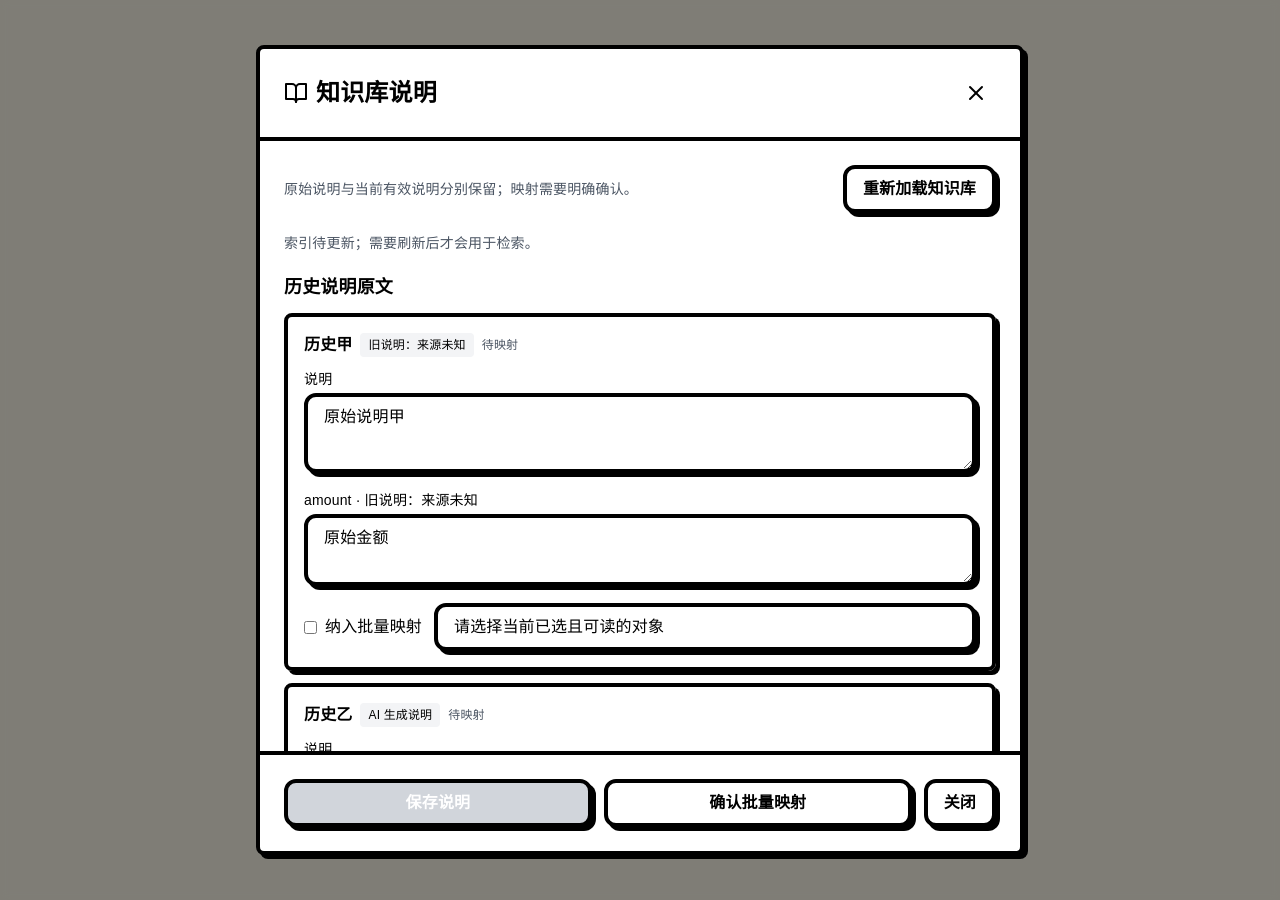
Test case: 409 blocks retry, reload preserves local draft until explicitly adopting the server version
Replace the text in the text box named "历史说明 1" with "未保存草稿" at {"x": 640, "y": 433}, box [304, 393, 976, 473]
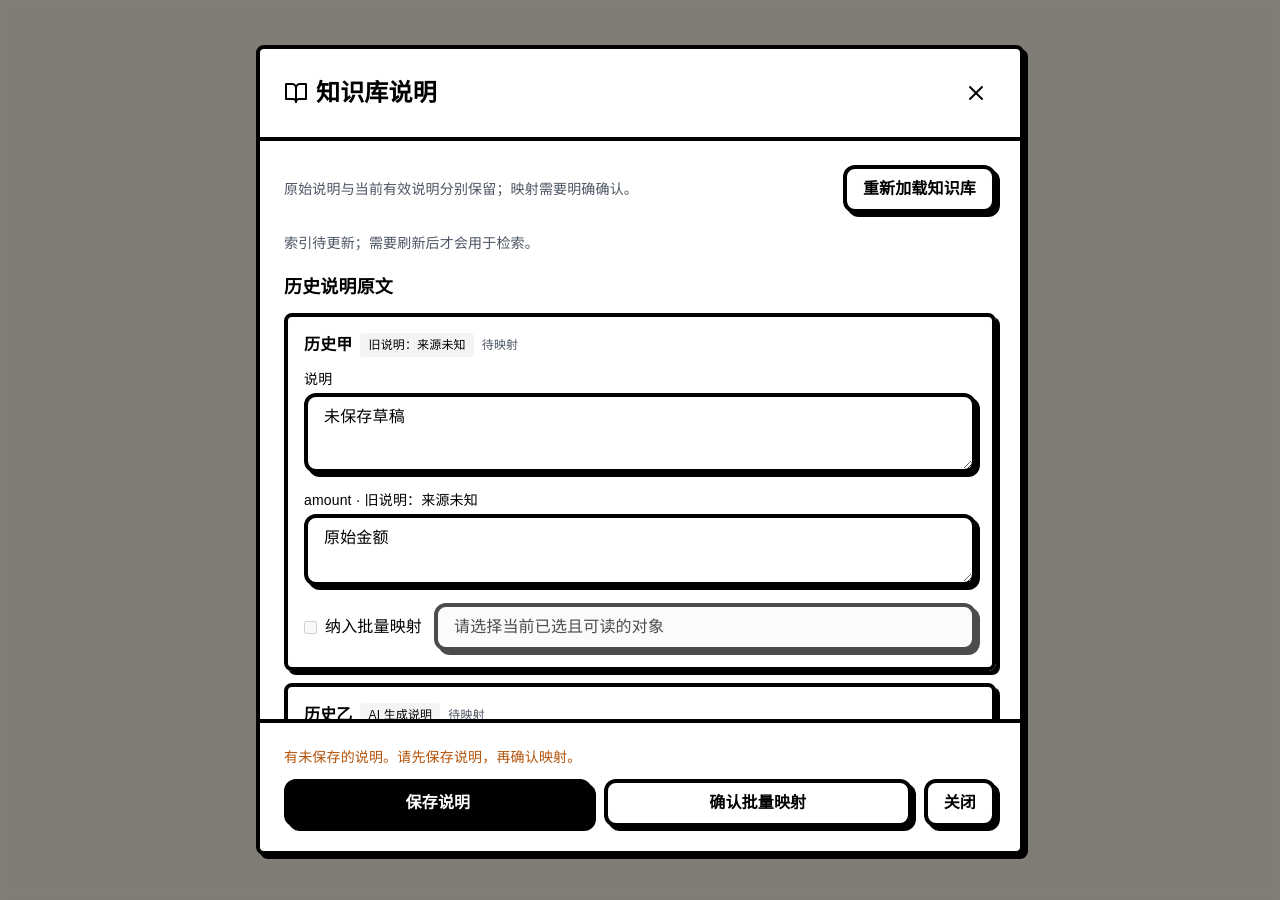
Click the button "保存说明".
click(438, 803)  # box [284, 779, 592, 827]
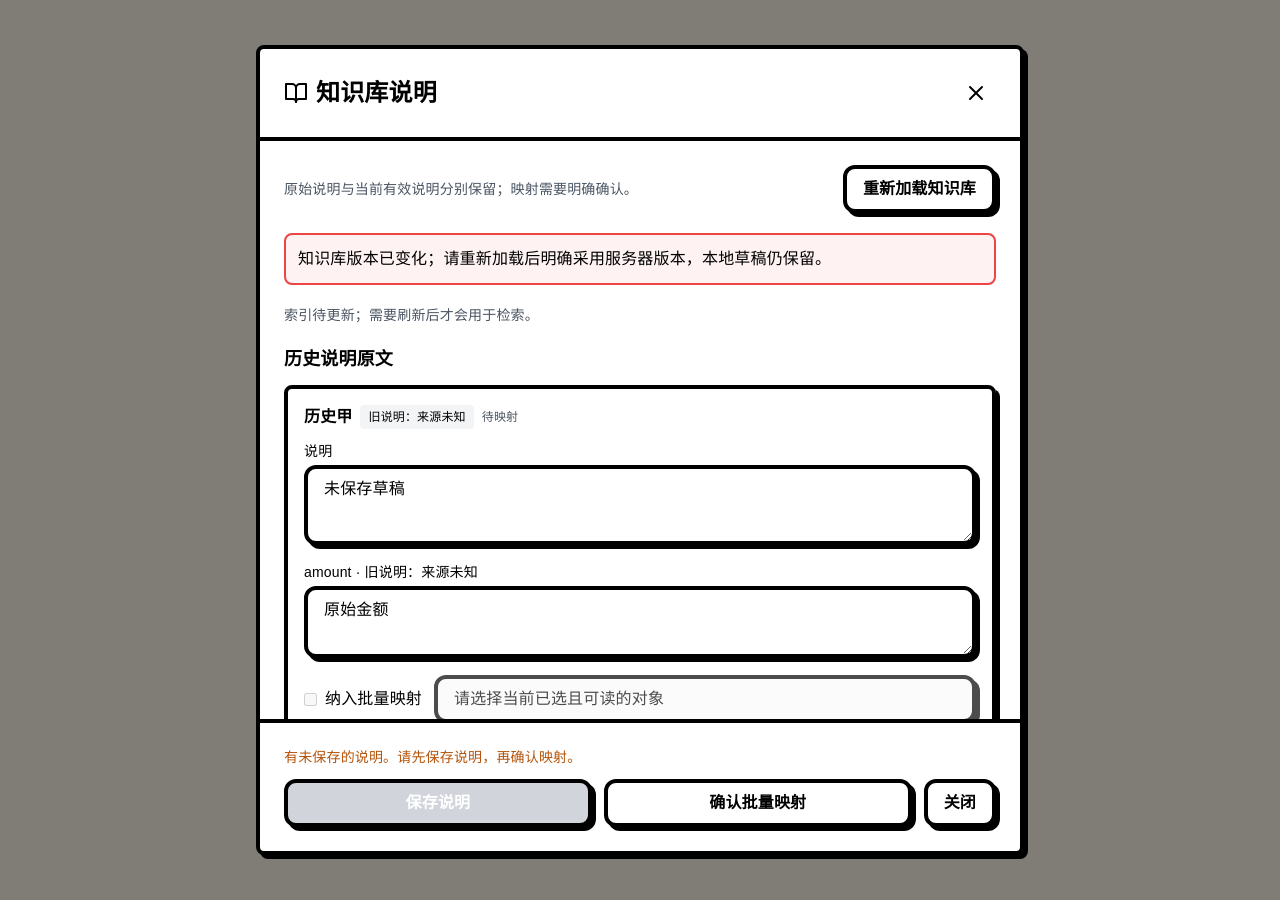
Expected: the text "说明已保存" is not shown
Expected: the text "知识库版本已变化；请重新加载后明确采用服务器版本，本地草稿仍保留。" is shown, [284, 233, 996, 285]
Expected: the button "保存说明" is disabled, [284, 779, 592, 827]
Click the button "重新加载知识库".
click(919, 189)  # box [843, 165, 996, 213]
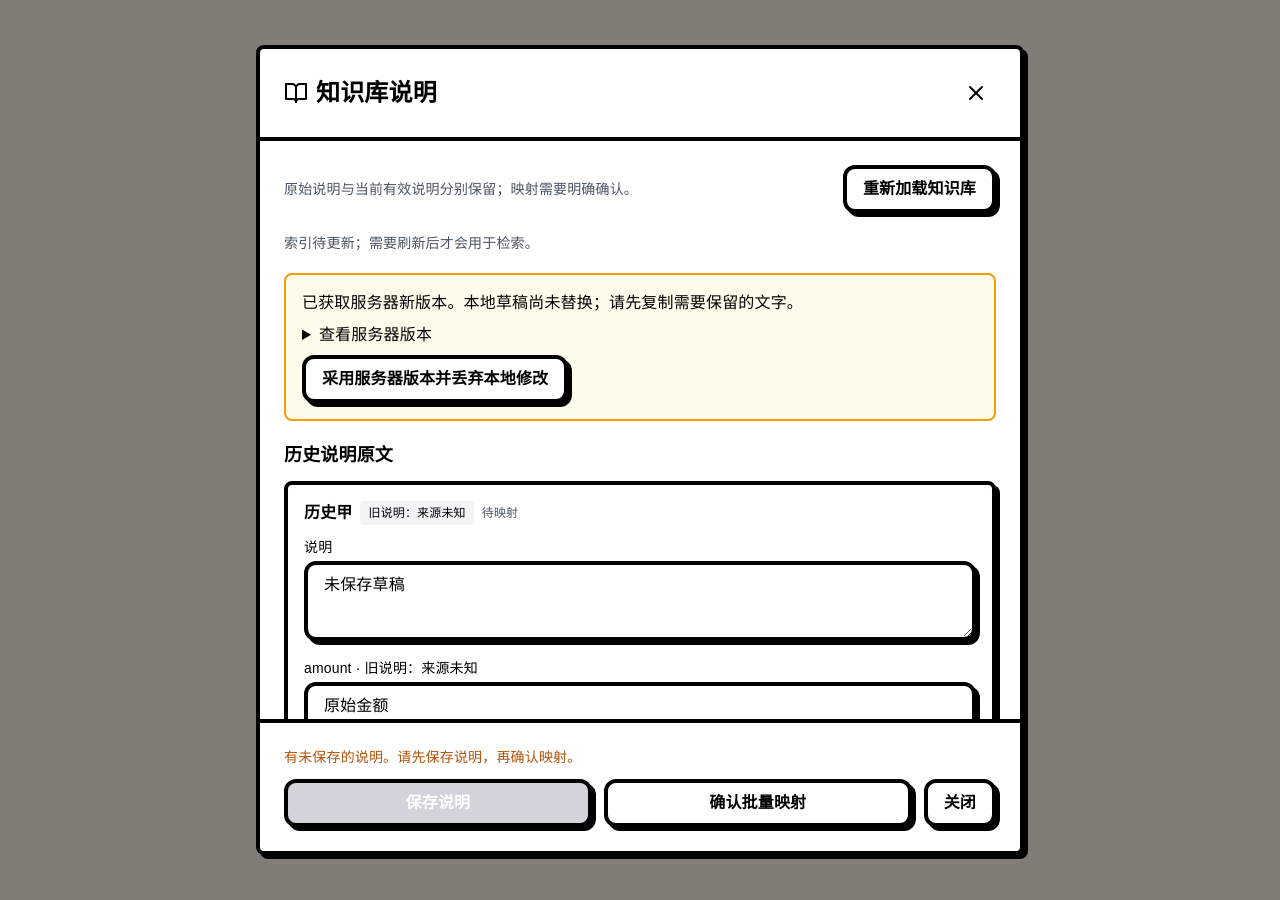
Expected: the button "采用服务器版本并丢弃本地修改" is shown
Click the button "采用服务器版本并丢弃本地修改".
click(435, 379)  # box [302, 355, 568, 403]
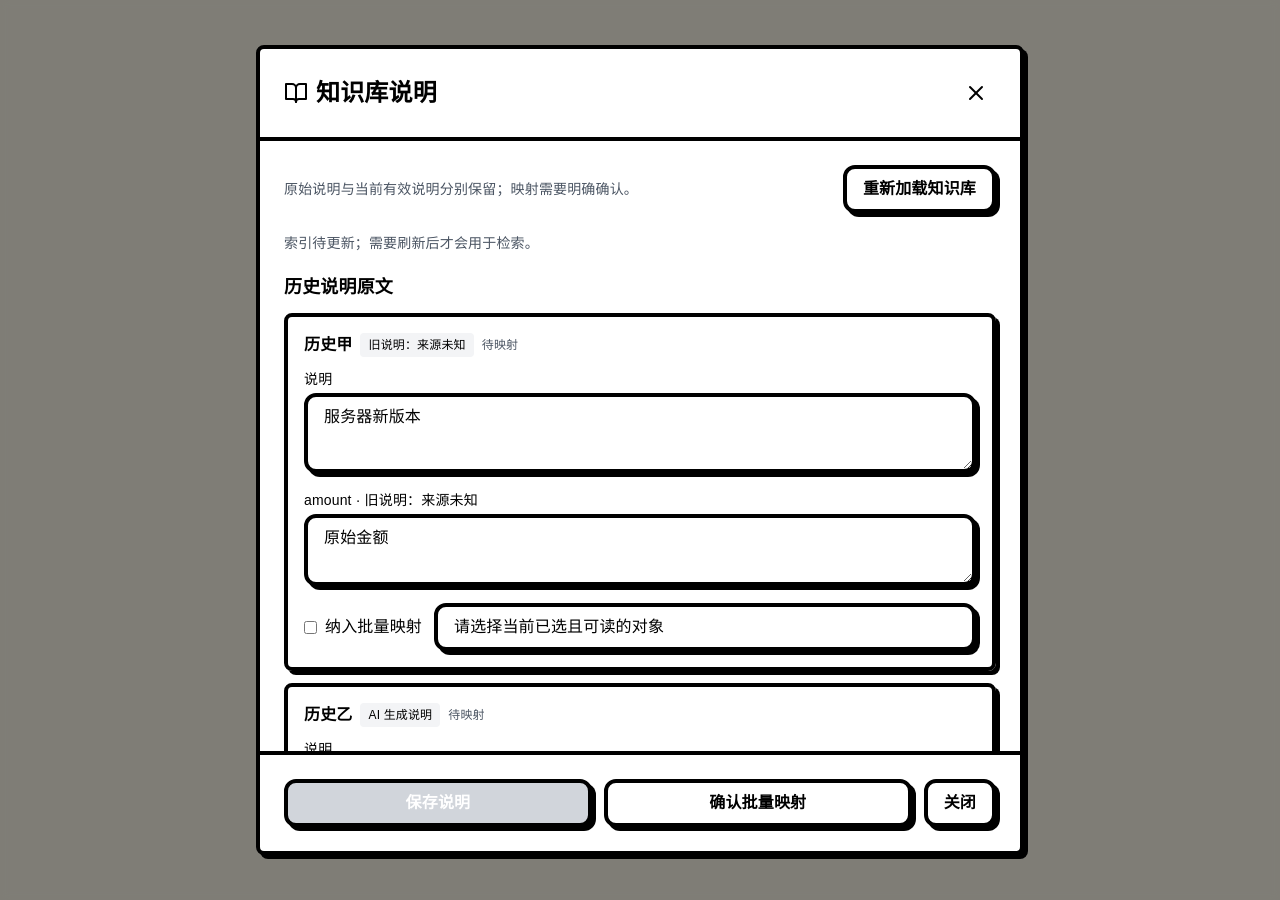
Expected: the text box named "历史说明 1" holds "服务器新版本"
Replace the text in the text box named "历史说明 1" with "明确重新编辑" at {"x": 640, "y": 433}, box [304, 393, 976, 473]
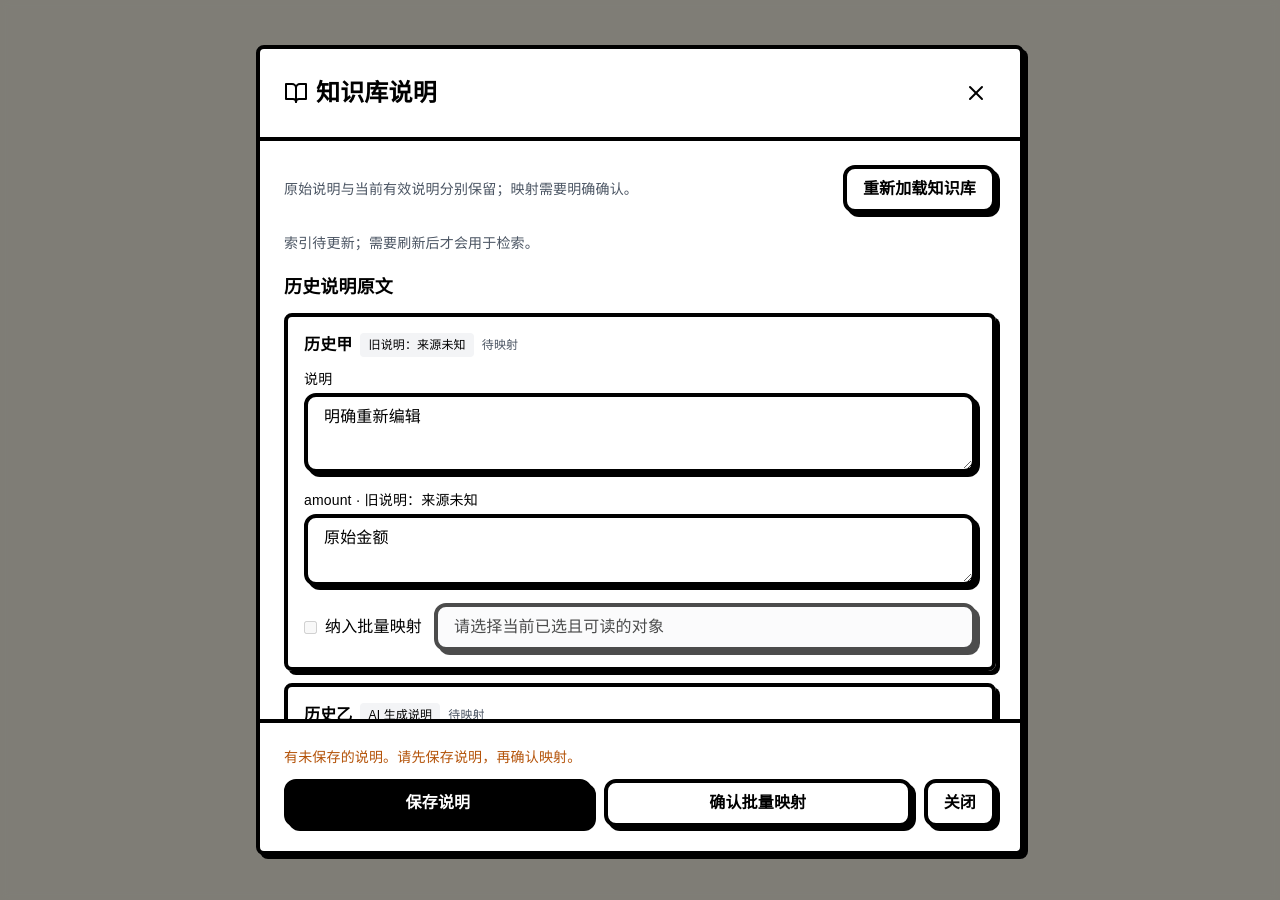
Click the button "保存说明".
click(438, 803)  # box [284, 779, 592, 827]
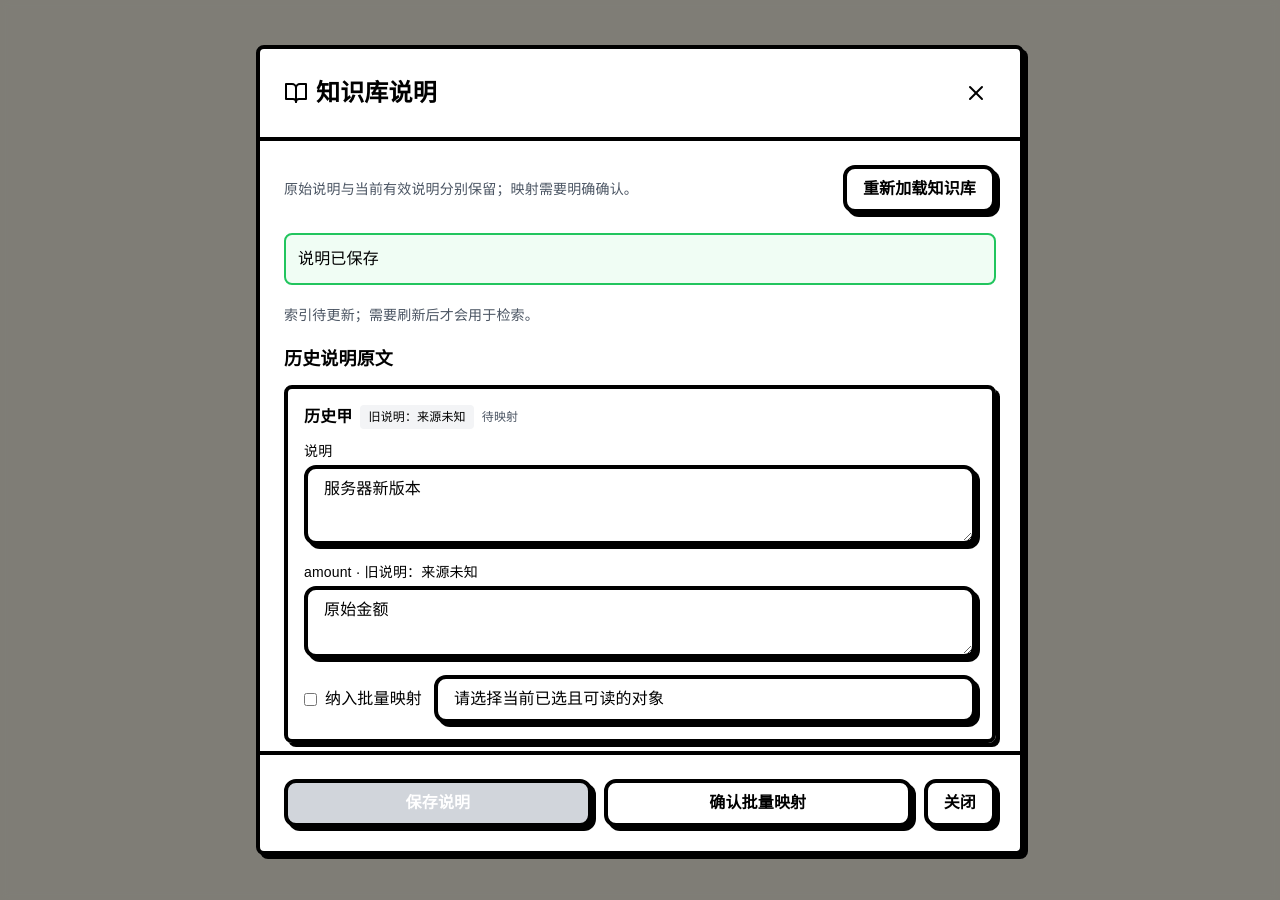
Expected: the text "说明已保存" is shown, [284, 233, 996, 285]
